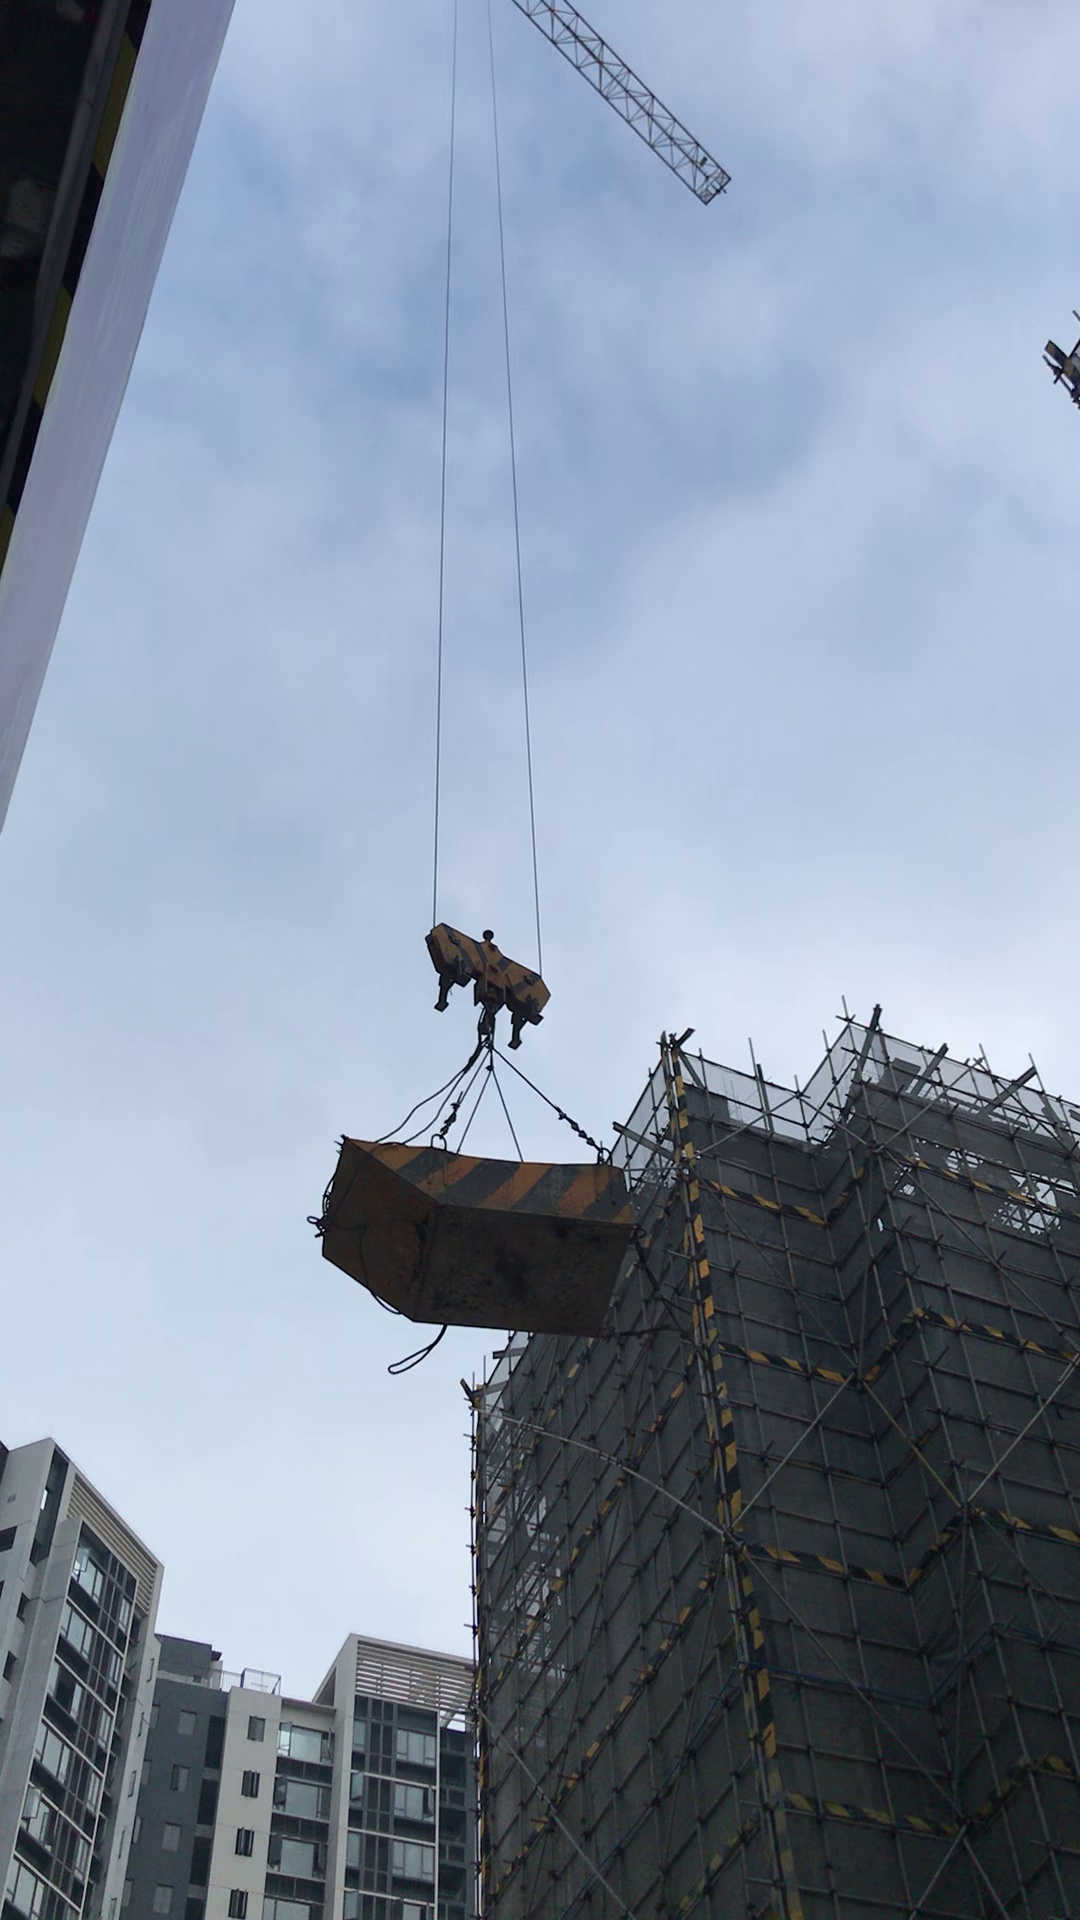hook: (425, 919, 556, 1048)
